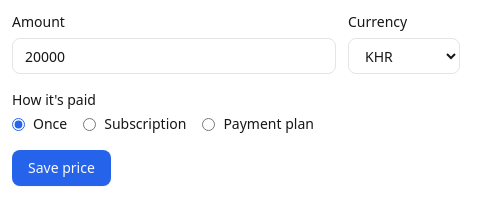
Test case: PriceForm › shows the current one-time price in major units and saves a new one
The image size is (477, 203).
Expected: the dropdown labelled "Currency" shows "KHR", [348,38,460,74]
Expected: the radio button labelled "Once" is checked, [12,118,25,130]
Replace the text in the field labelled "Amount" with "25000" at (174, 56), box [12,38,336,74]
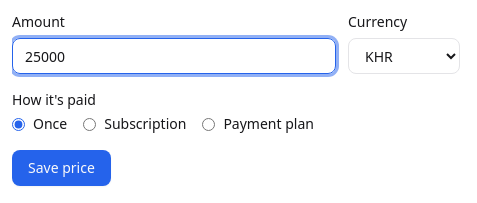
Click the button "Save price" at (61, 168), box [12,150,111,186]
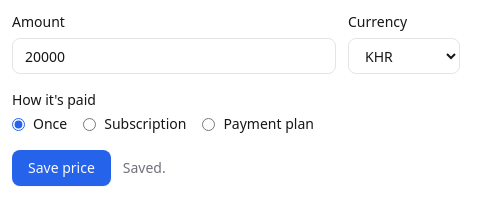
Expected: the text "Saved." is shown, [123,158,166,178]
